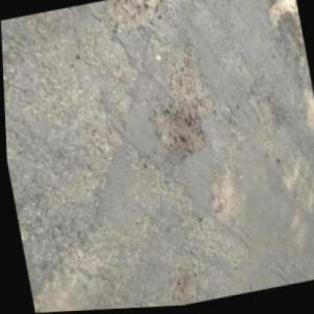Hueco: (151, 105, 209, 171)
